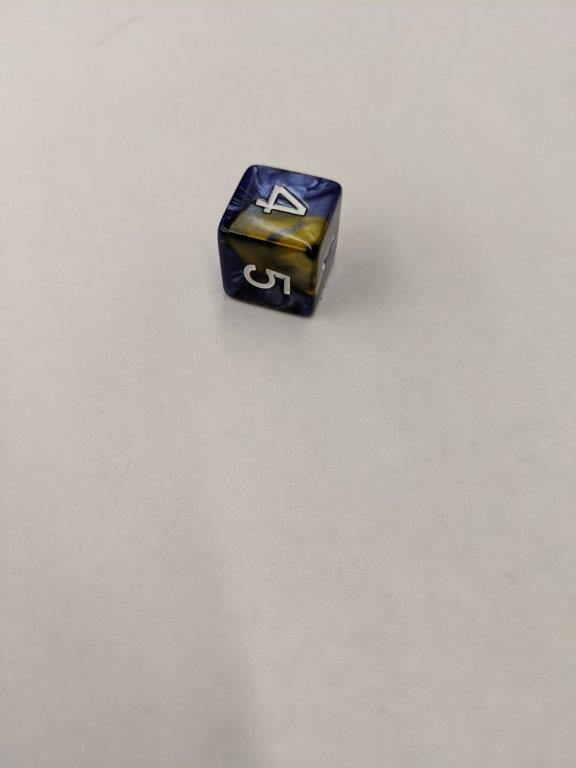d6-4: (216, 163, 344, 317)
